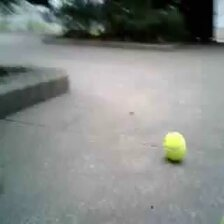tennis: (163, 131, 186, 159)
